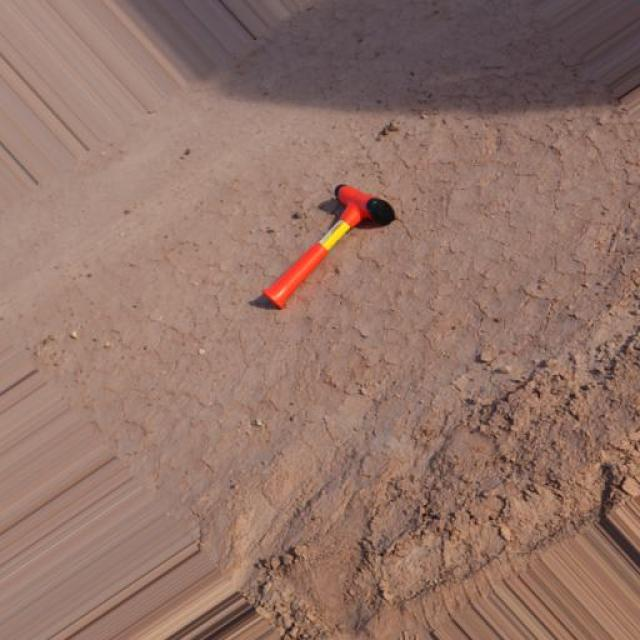mallet: (260, 181, 395, 310)
